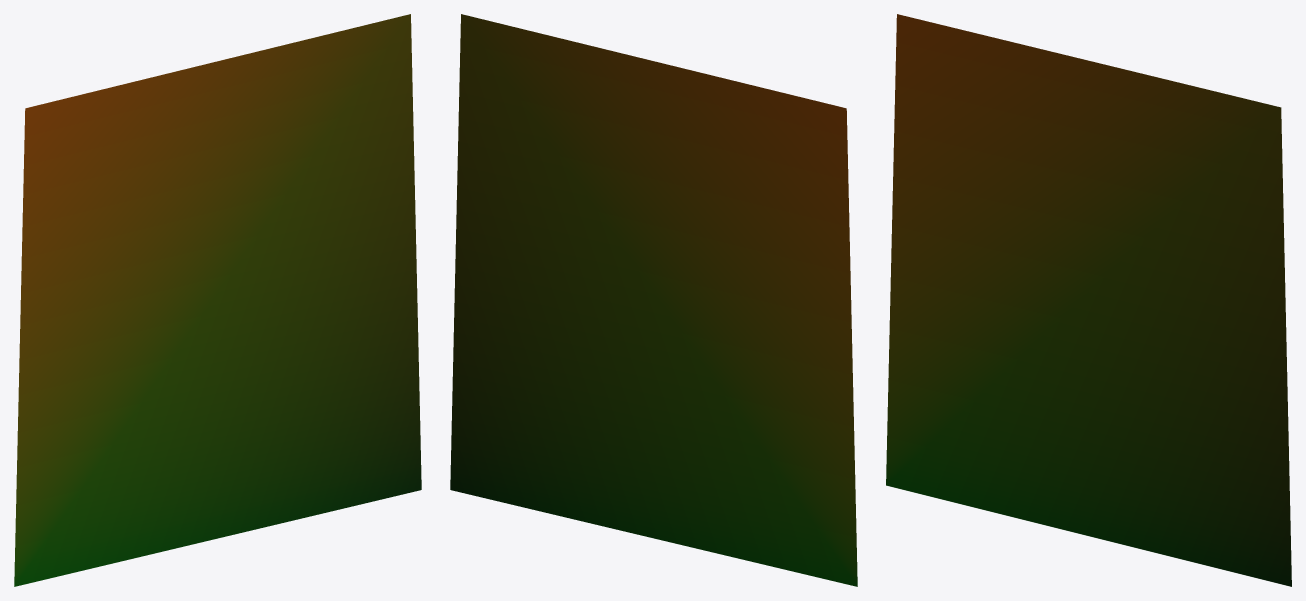
File: Var4_LOD3.fbx
The picture shows the model from 3 angles, left to right: view 1: azimuth 30°, elevation 25°; view 2: azimuth 150°, elevation 25°; view 3: azimuth 330°, elevation 25°; orthographic projection.
Parts seen in each view (by area): view 1: _abd8_Var4_LOD3; view 2: _abd8_Var4_LOD3; view 3: _abd8_Var4_LOD3.
Boxes of the visible parts, bbox=[...] form: _abd8_Var4_LOD3: bbox=[14, 14, 421, 586]; _abd8_Var4_LOD3: bbox=[450, 14, 857, 586]; _abd8_Var4_LOD3: bbox=[886, 14, 1291, 586].
Bounding box in the file's own units: 28.95 × 32.5 × 6.74e-06.
